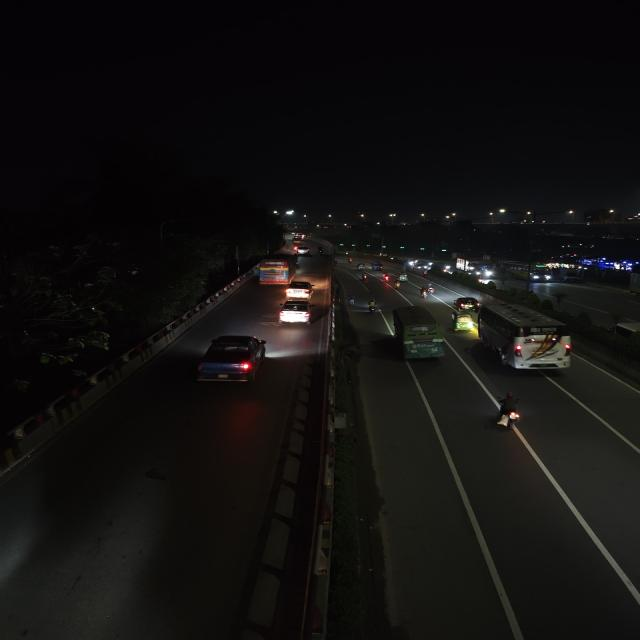bus: (475, 302, 577, 374), (391, 305, 448, 364), (255, 256, 298, 286), (500, 260, 552, 284), (462, 258, 494, 278)
car: (192, 332, 272, 387), (276, 300, 316, 328), (283, 280, 316, 299), (453, 294, 482, 312), (294, 245, 311, 256), (370, 260, 385, 270)
cng: (448, 310, 478, 334), (397, 272, 409, 282)
motorcycle: (492, 390, 528, 434), (364, 297, 380, 315), (348, 293, 358, 307), (418, 286, 429, 298), (428, 282, 435, 298), (360, 272, 371, 282), (381, 270, 392, 280), (392, 280, 402, 290), (346, 255, 355, 263)
truck: (561, 267, 578, 283)
